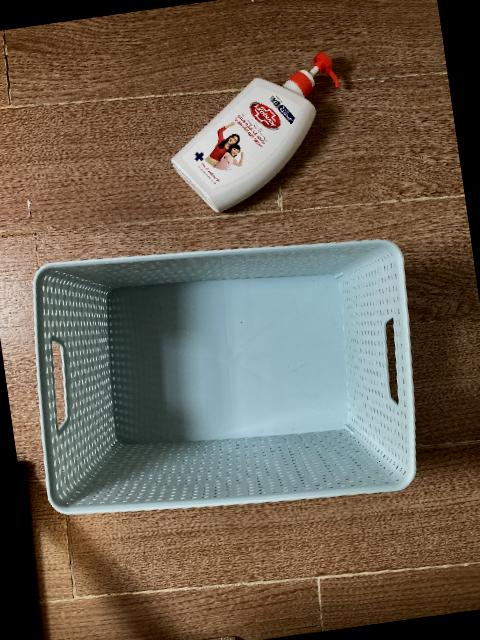cart: (34, 240, 417, 517)
life-buoy: (171, 52, 342, 213)
